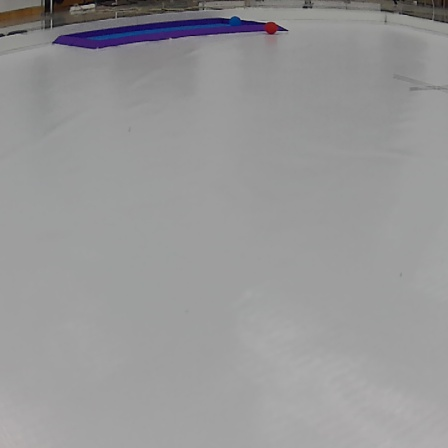blue: (230, 13, 242, 30)
blue_aim: (49, 15, 289, 50)
red: (264, 19, 278, 33)
